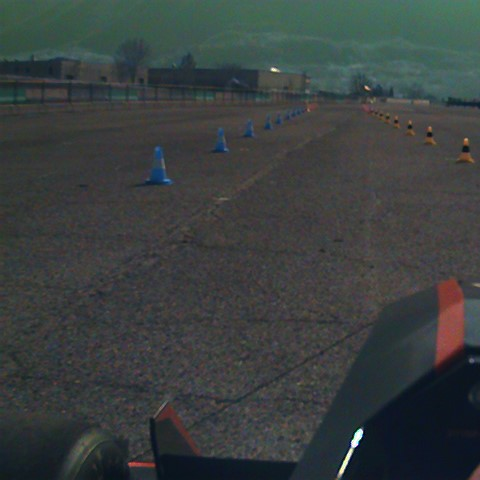cone: (145, 147, 172, 185), (213, 129, 228, 152), (245, 117, 254, 137), (263, 115, 271, 128), (277, 114, 282, 123)
